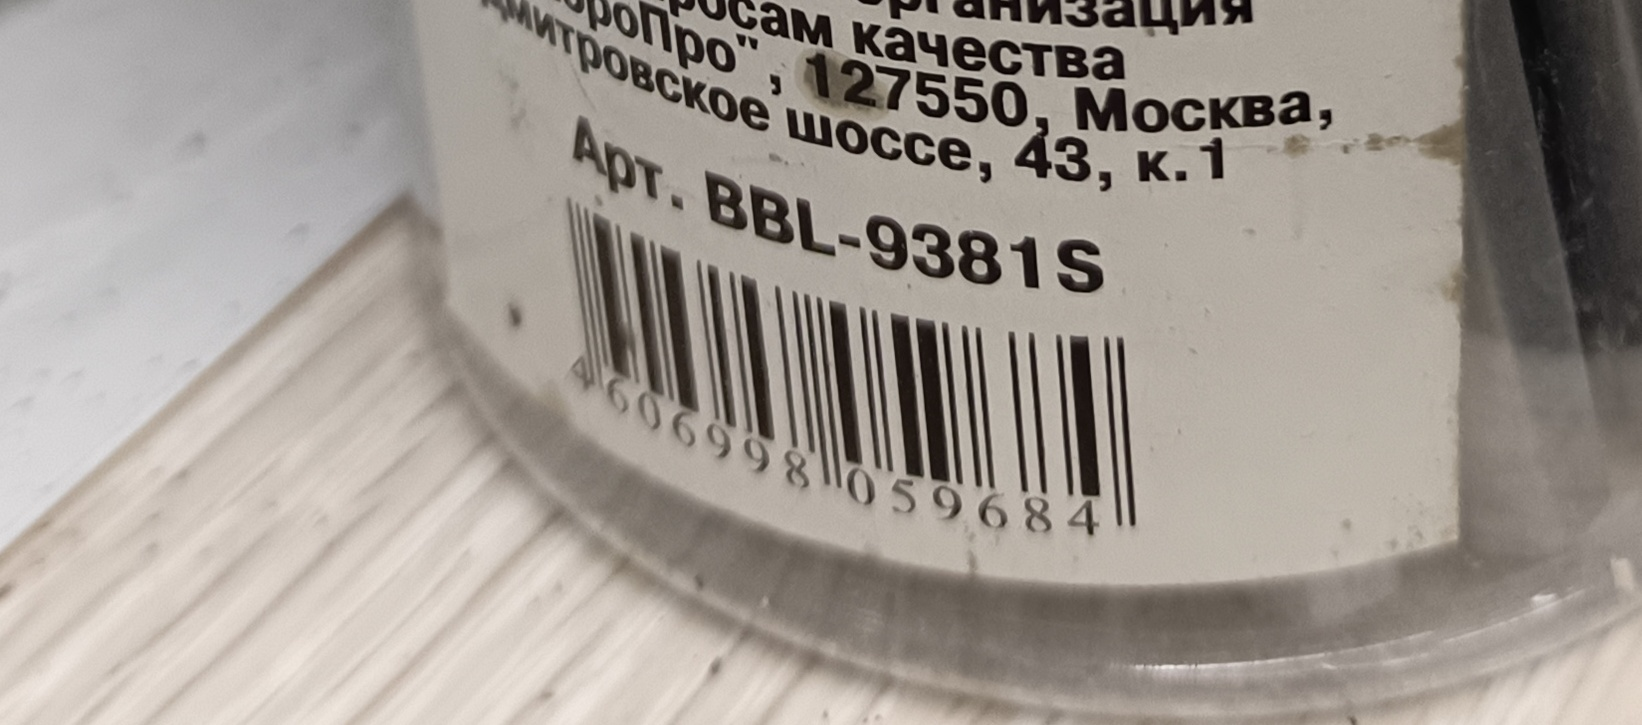1d: (554, 188, 1142, 496)
